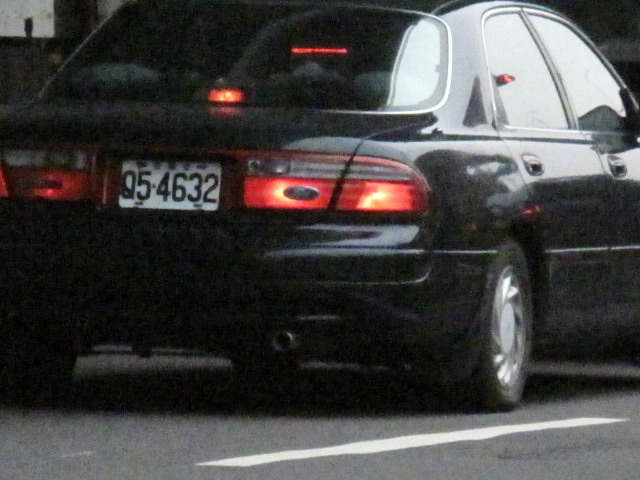plate: (118, 156, 222, 216)
